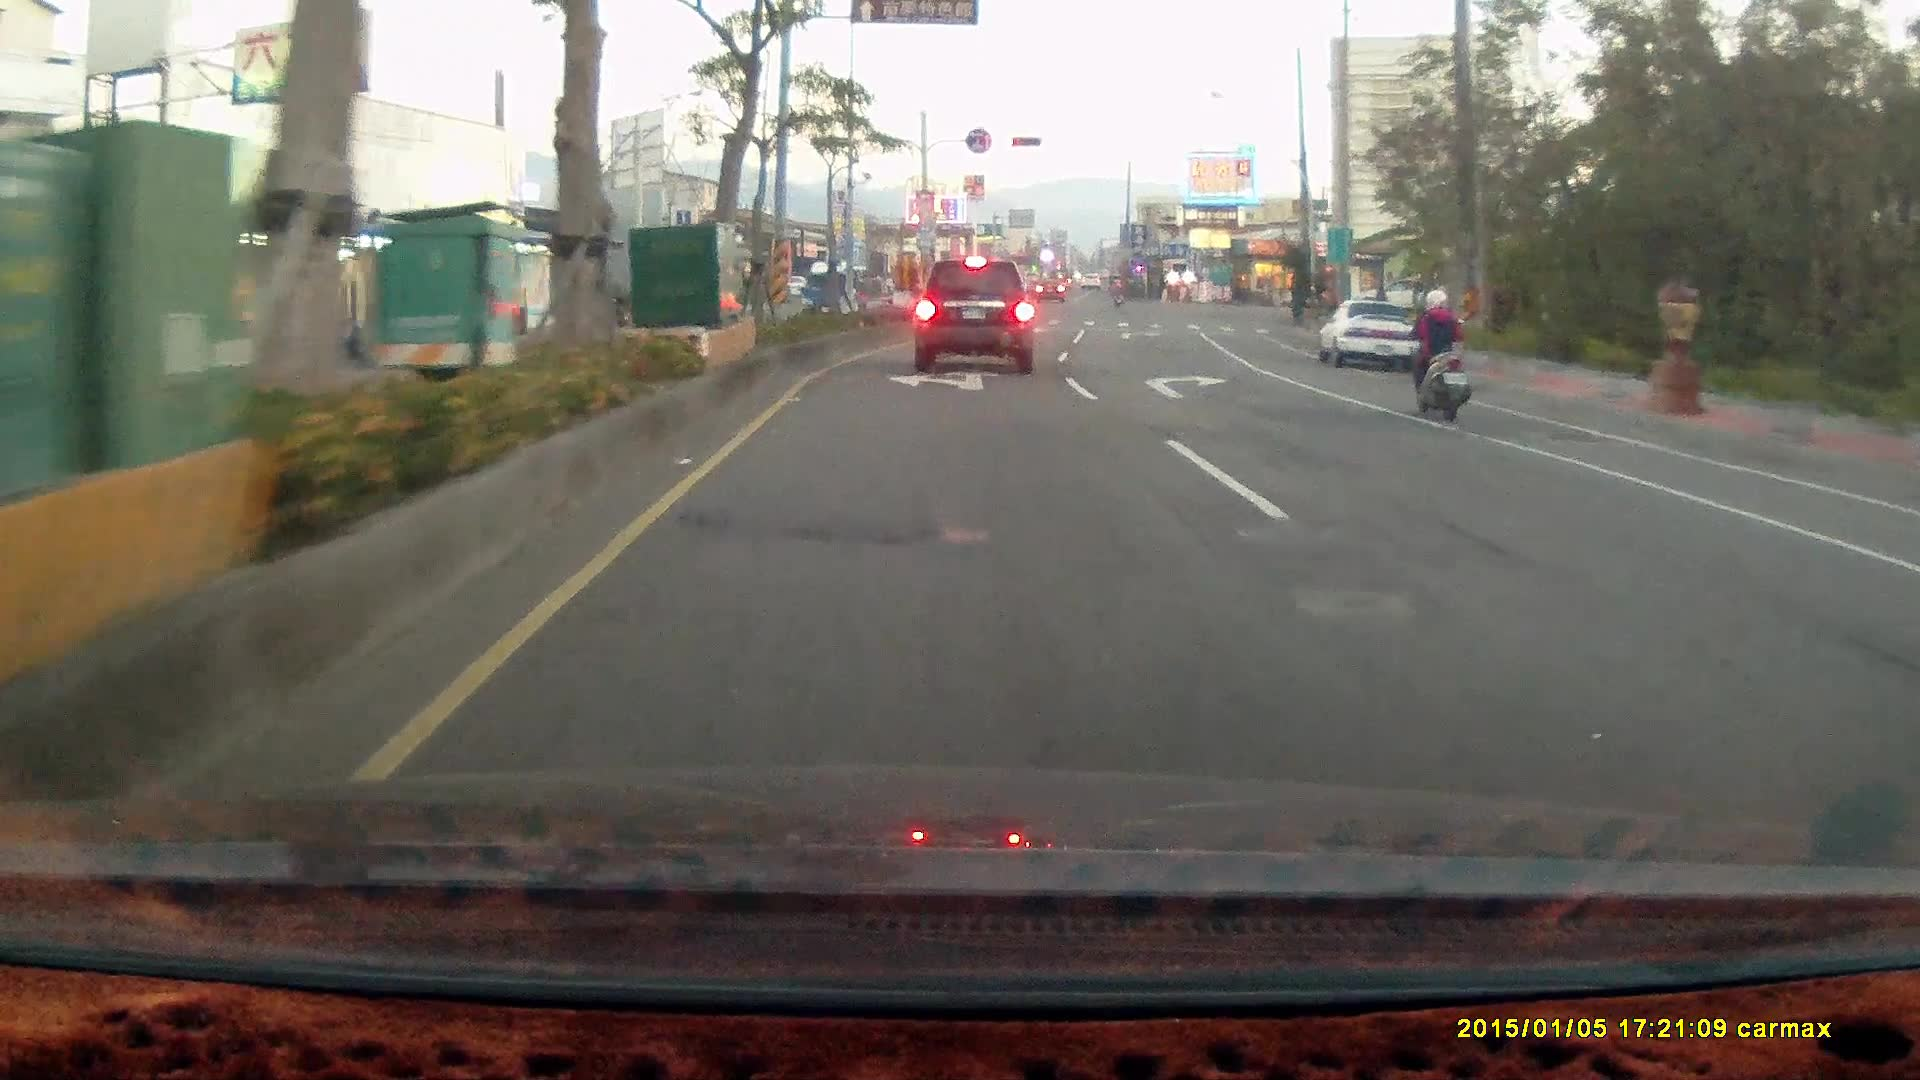rider: (1395, 276, 1473, 414)
vehicle: (912, 255, 1034, 374), (1896, 493, 1920, 836), (1319, 296, 1425, 371), (1316, 295, 1422, 369), (1883, 528, 1920, 690), (1350, 274, 1435, 311)
